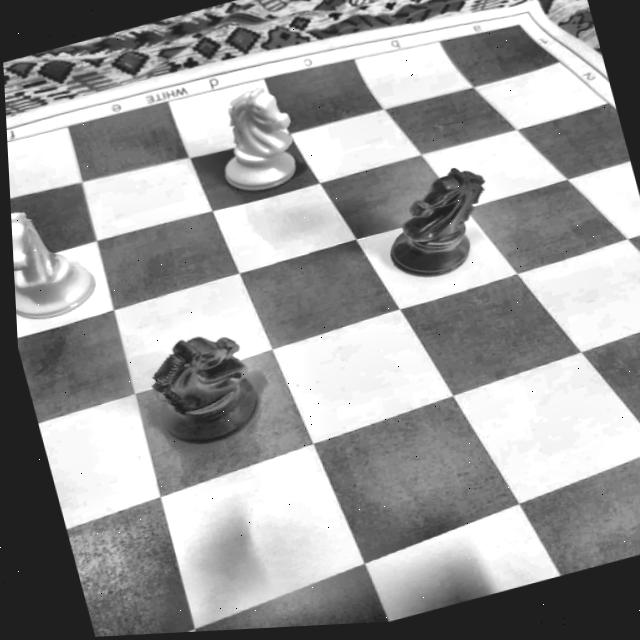BlackKnight: (369, 156, 505, 288), (141, 319, 271, 456)
WhiteKnight: (200, 77, 308, 201), (10, 189, 104, 326)
